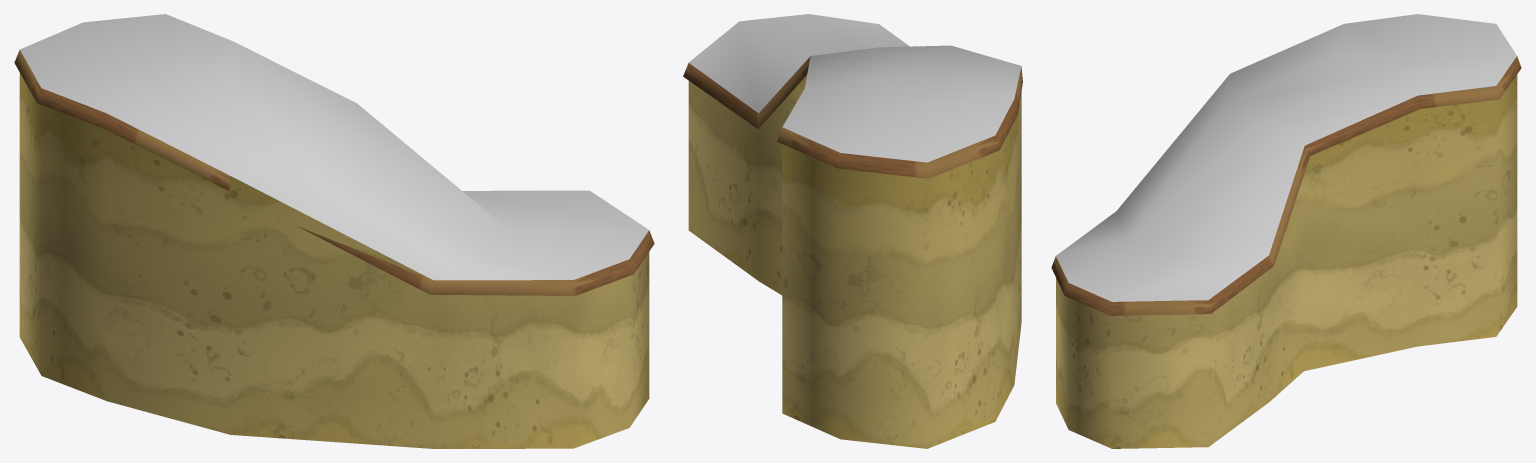
File: bgi 1.fbx
The picture shows the model from 3 angles, left to right: view 1: azimuth 30°, elevation 25°; view 2: azimuth 150°, elevation 25°; view 3: azimuth 270°, elevation 25°; orthographic projection. The views are drawn at different scales.
Parts seen in each view (by area): view 1: polySurface95; view 2: polySurface95; view 3: polySurface95.
Part boxes in pixels (bbox=[...]): polySurface95: bbox=[14, 14, 654, 448]; polySurface95: bbox=[683, 14, 1022, 448]; polySurface95: bbox=[1051, 14, 1521, 448].
Size of the model in its own units: 2.91 by 1.82 by 3.08.
